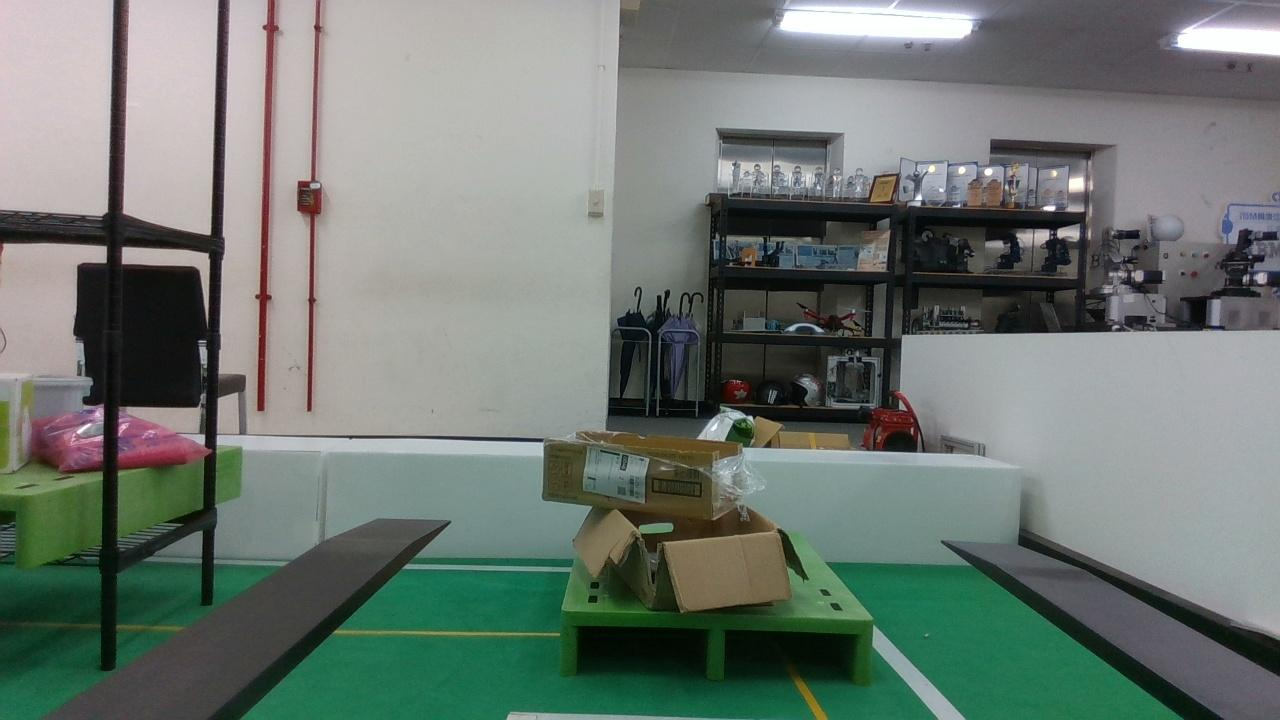Pallet: (551, 603, 881, 687)
